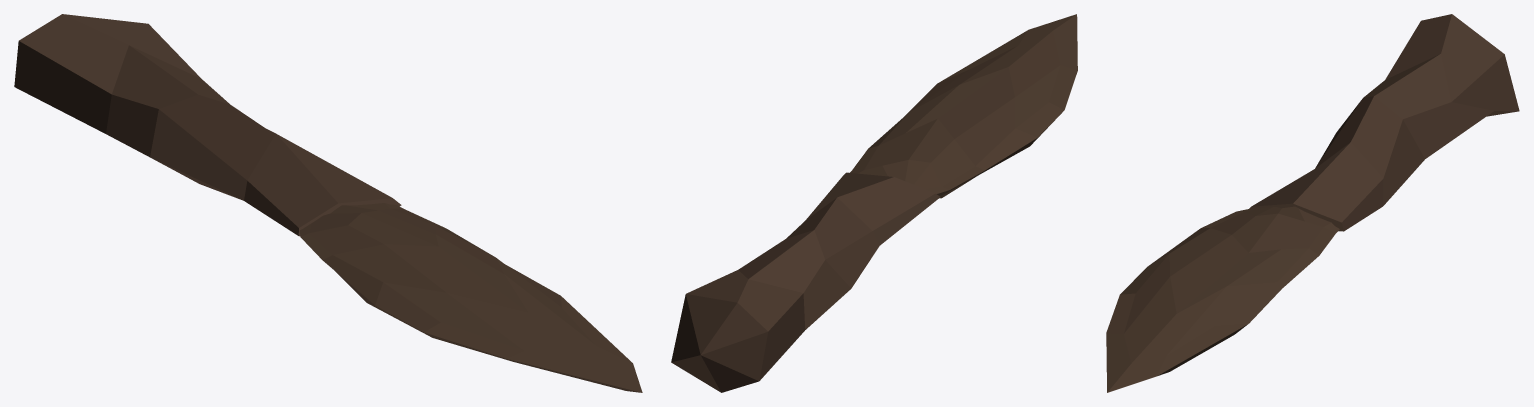
The model's file is Collin_StoneKnife.fbx.
3 renders of one model, left to right at view 1: azimuth 30°, elevation 25°; view 2: azimuth 150°, elevation 25°; view 3: azimuth 330°, elevation 25°, orthographic. The views are drawn at different scales.
Parts seen in each view (by area): view 1: Knife; view 2: Knife; view 3: Knife.
Part boxes in pixels (left/top/right/bottom): Knife: left=14, top=14, right=642, bottom=392; Knife: left=671, top=14, right=1077, bottom=392; Knife: left=1106, top=14, right=1519, bottom=392.
Bounding box in the file's own units: 4.97 × 2.74 × 24.95.
